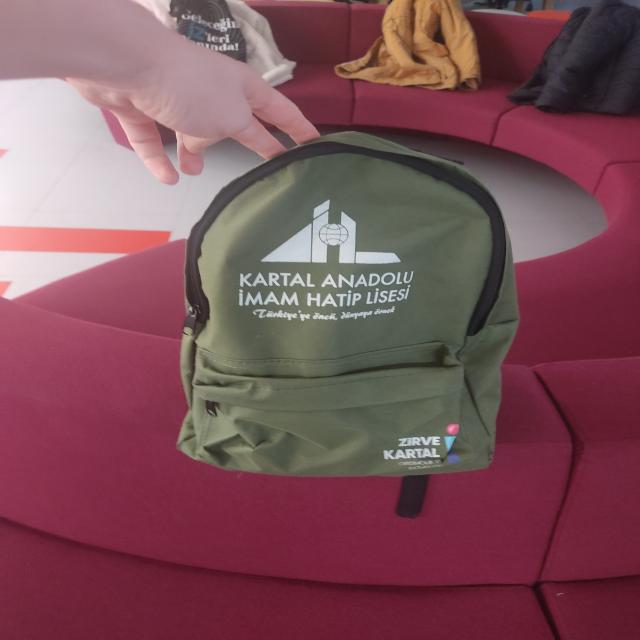bag: (166, 132, 522, 482)
